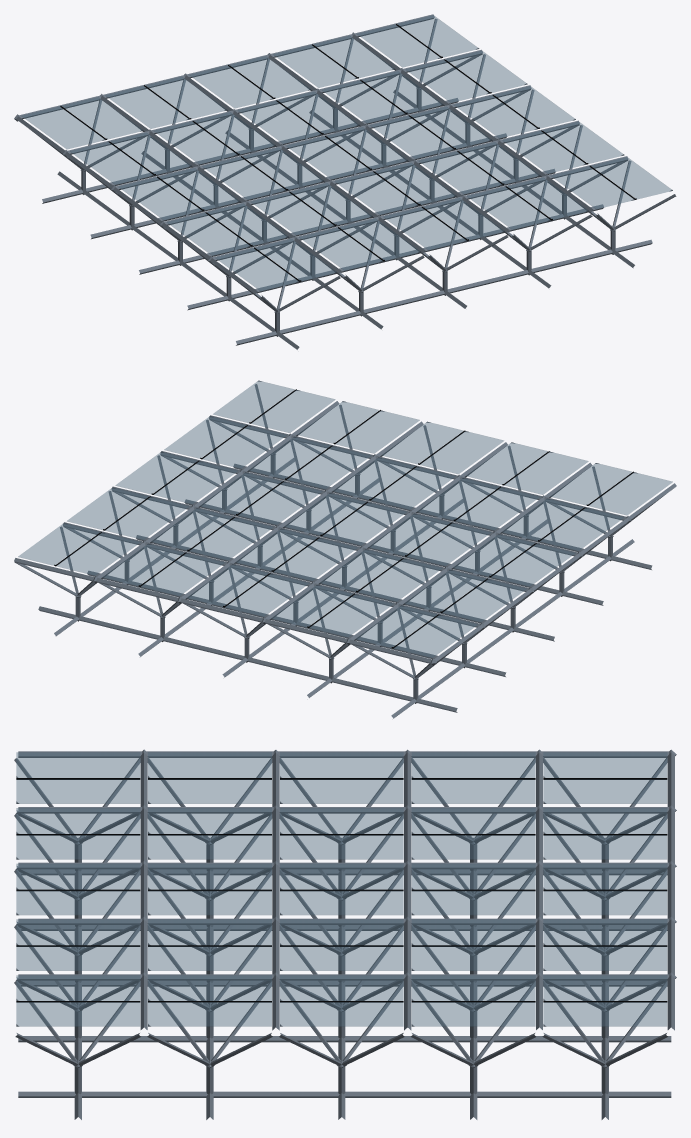
3 views of the same model, one above another, from view 1: azimuth 30°, elevation 25°; view 2: azimuth 150°, elevation 25°; view 3: azimuth 270°, elevation 25° (orthographic). The views are drawn at different scales.
Visible parts, largest first — view 1: Roof_Glass_Panes, Space_Frame, Glazing_Bars; view 2: Roof_Glass_Panes, Space_Frame, Glazing_Bars; view 3: Roof_Glass_Panes, Space_Frame, Glazing_Bars.
Part boxes in pixels (x1=…): Roof_Glass_Panes: x1=22, y1=15, x2=672, y2=290; Space_Frame: x1=14, y1=14, x2=676, y2=349; Glazing_Bars: x1=60, y1=24, x2=636, y2=281; Roof_Glass_Panes: x1=18, y1=380, x2=672, y2=657; Space_Frame: x1=14, y1=384, x2=676, y2=718; Glazing_Bars: x1=54, y1=389, x2=633, y2=648; Roof_Glass_Panes: x1=16, y1=752, x2=666, y2=1026; Space_Frame: x1=14, y1=749, x2=676, y2=1119; Glazing_Bars: x1=16, y1=778, x2=667, y2=1002.
Size of the model in its own units: 20.11 by 3.35 by 20.13.
3 materials, 3 textured.
